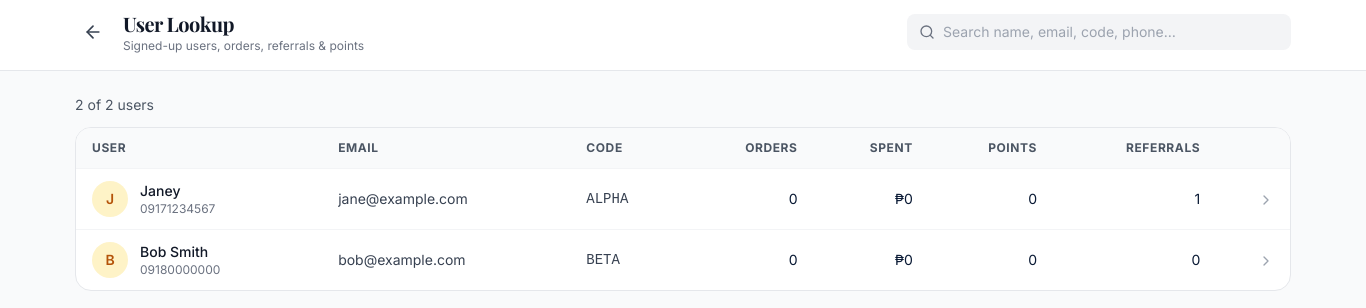
Scenario: UserLookupManager › filters users by referral code
The width and height of the screenshot is (1366, 308).
Check: the text "Janey" is shown, box [140,182,180,199]
In the field with placeholder "Search name, email, code, phone…": (1111, 32) [943,22,1279,42], type "beta"
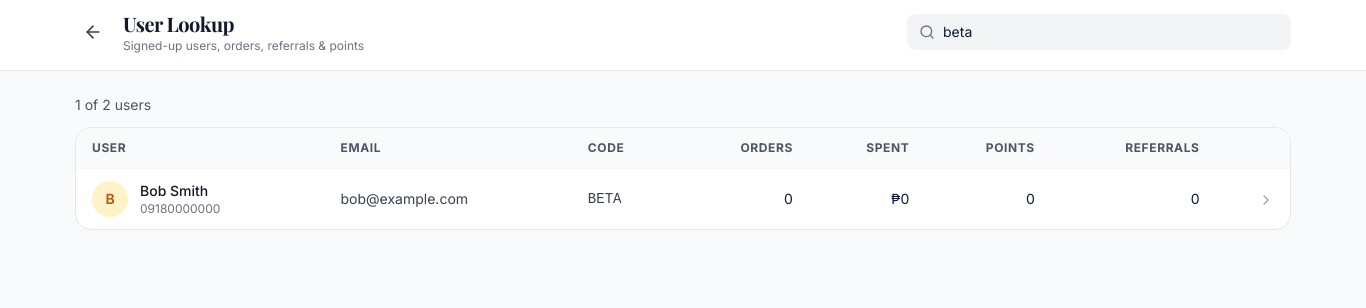
Check: the text "Bob Smith" is shown, box [140,182,208,199]
Check: the text "1 of 2 users" is shown, box [75,96,151,113]
